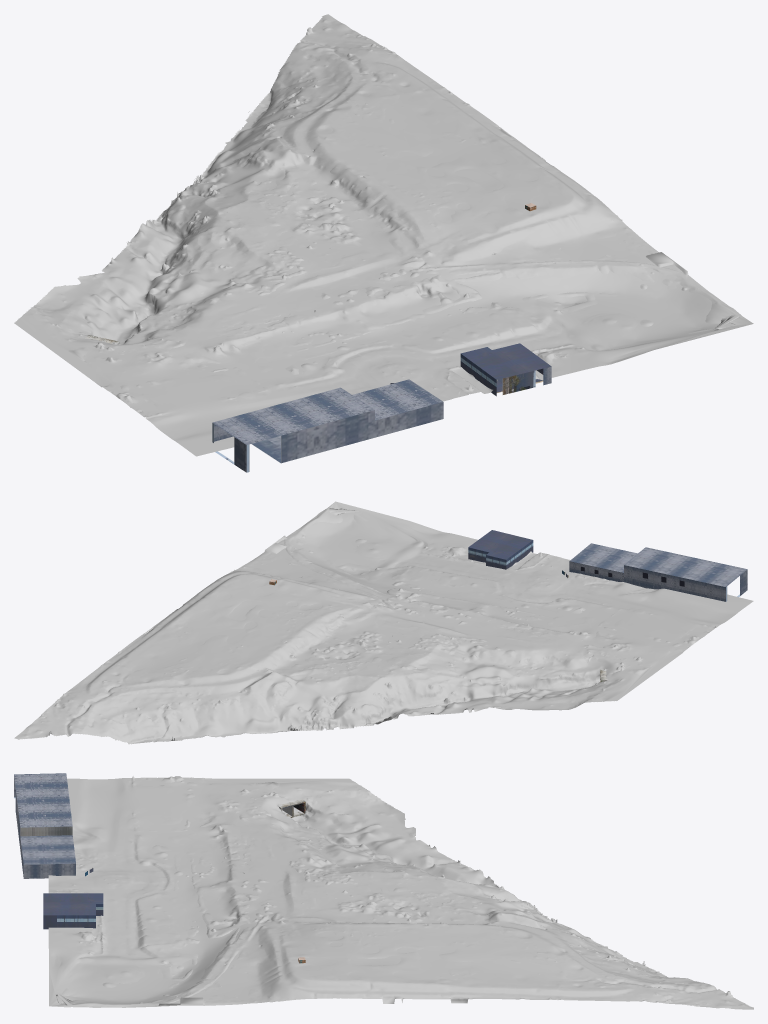
Rendered from TerrainMap3.fbx.
The picture shows the model from 3 angles, top to bottom: view 1: azimuth 30°, elevation 25°; view 2: azimuth 150°, elevation 25°; view 3: azimuth 270°, elevation 25°; orthographic projection. The views are drawn at different scales.
Parts seen in each view (by area): view 1: a1Map.001, a1Map.002; view 2: a1Map.001, a1Map.002; view 3: a1Map.001, a1Map.002.
Boxes of the visible parts, x1=… form: a1Map.001: x1=14, y1=14, x2=739, y2=472; a1Map.002: x1=68, y1=85, x2=753, y2=416; a1Map.001: x1=14, y1=508, x2=753, y2=744; a1Map.002: x1=123, y1=501, x2=712, y2=684; a1Map.001: x1=14, y1=773, x2=753, y2=1009; a1Map.002: x1=49, y1=776, x2=592, y2=1007.
Bounding box in the file's own units: 32339 × 2479 × 44881.
